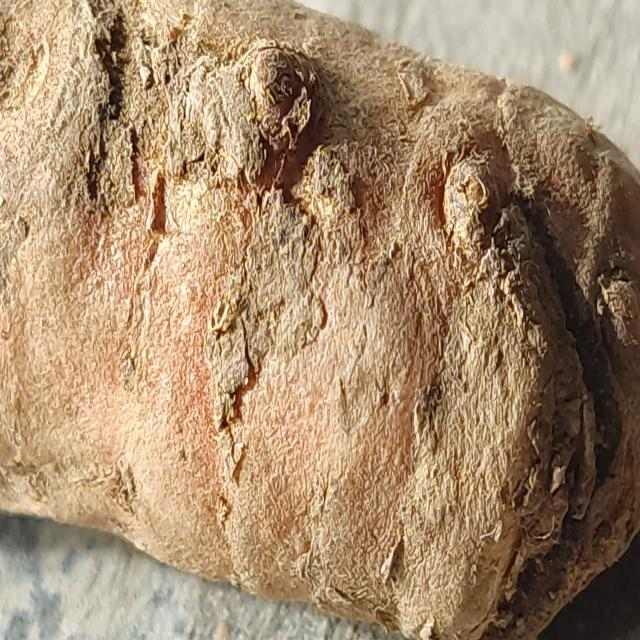ginger: (2, 0, 640, 598)
